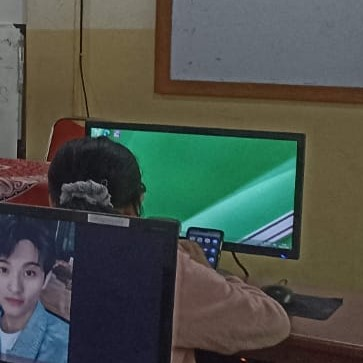monitor: (85, 118, 306, 261), (0, 201, 180, 360), (185, 226, 224, 270)
